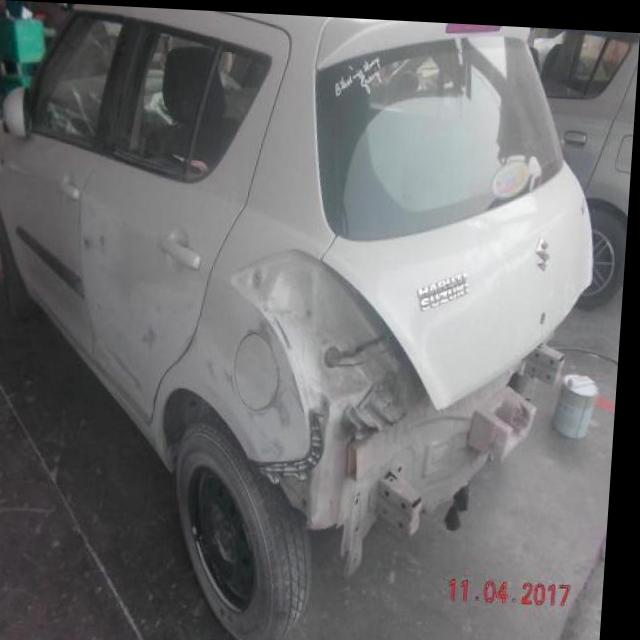Car-Damage: (217, 254, 593, 552), (67, 200, 314, 447)
